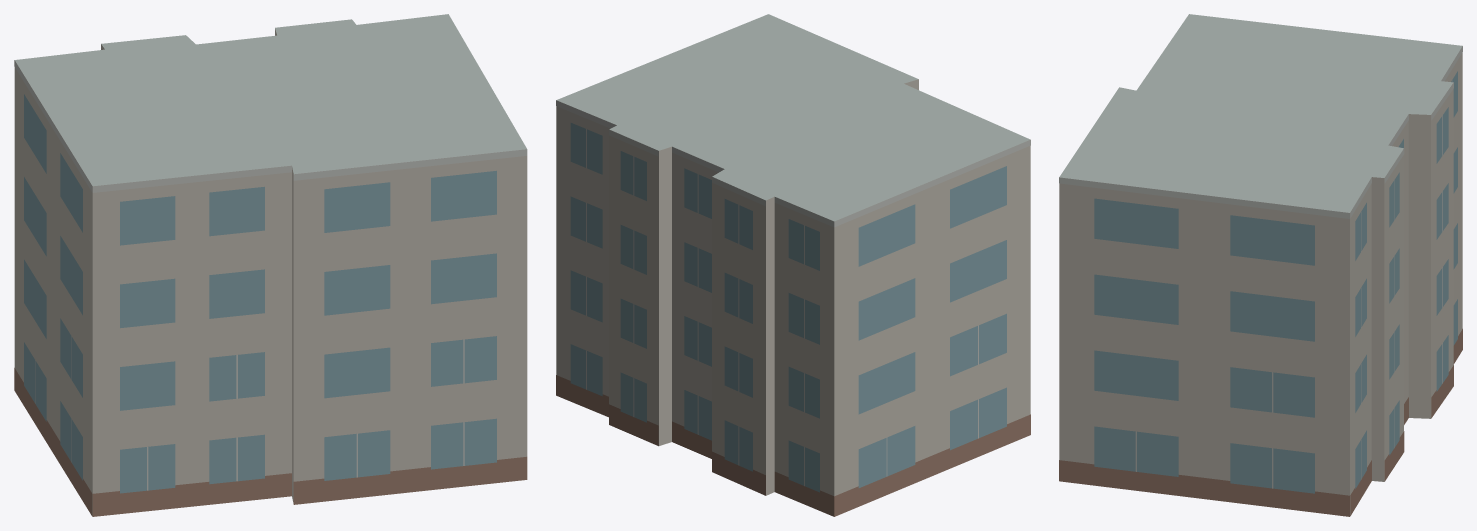
The model's file is survey-upis-32979931.glb.
The picture shows the model from 3 angles, left to right: view 1: azimuth 30°, elevation 25°; view 2: azimuth 150°, elevation 25°; view 3: azimuth 270°, elevation 25°; orthographic projection. The views are drawn at different scales.
Parts seen in each view (by area): view 1: survey-upis-32979931.tmp; view 2: survey-upis-32979931.tmp; view 3: survey-upis-32979931.tmp.
Boxes of the visible parts, <box> form: survey-upis-32979931.tmp: <box>14,14,527,516</box>; survey-upis-32979931.tmp: <box>556,14,1030,516</box>; survey-upis-32979931.tmp: <box>1059,14,1462,516</box>.
Size of the model in its own units: 17.14 by 12.2 by 14.7.
